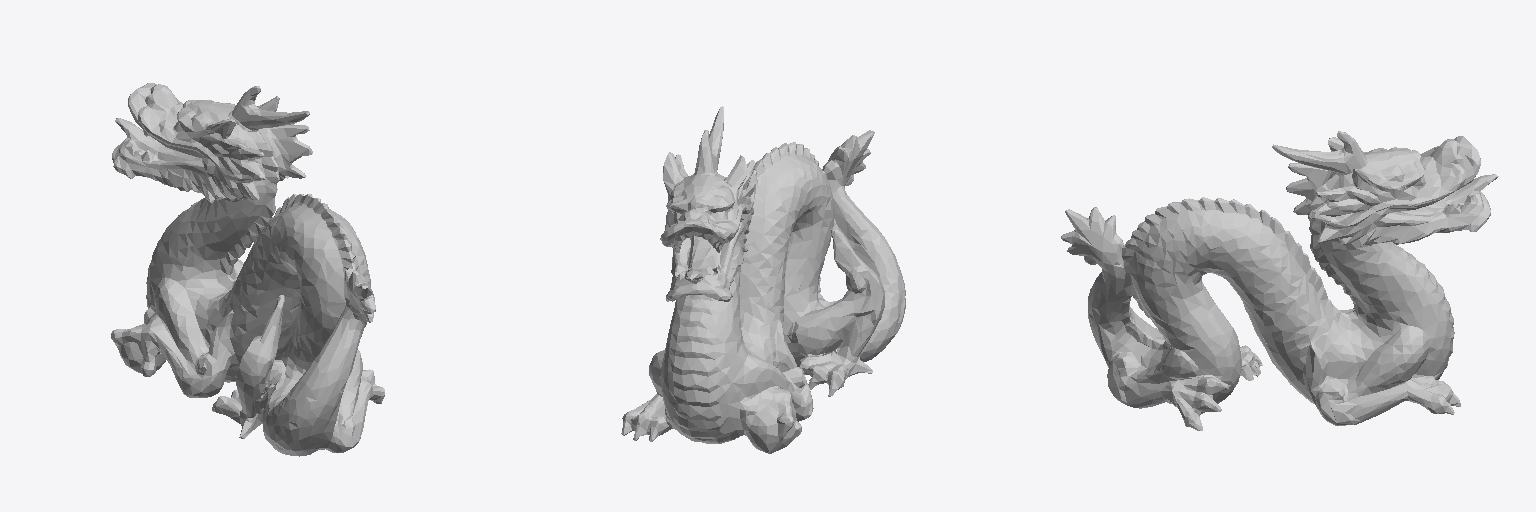
The model's file is dragon.obj.
The picture shows the model from 3 angles: view 1: azimuth 30°, elevation 25°; view 2: azimuth 150°, elevation 25°; view 3: azimuth 270°, elevation 25°; orthographic projection.
Parts seen in each view (by area): view 1: dragon; view 2: dragon; view 3: dragon.
Part boxes in pixels (bbox=[...]): dragon: bbox=[111, 83, 384, 456]; dragon: bbox=[621, 106, 905, 453]; dragon: bbox=[1061, 131, 1498, 430].
Bounding box in the file's own units: 0.447 × 0.7039 × 1.